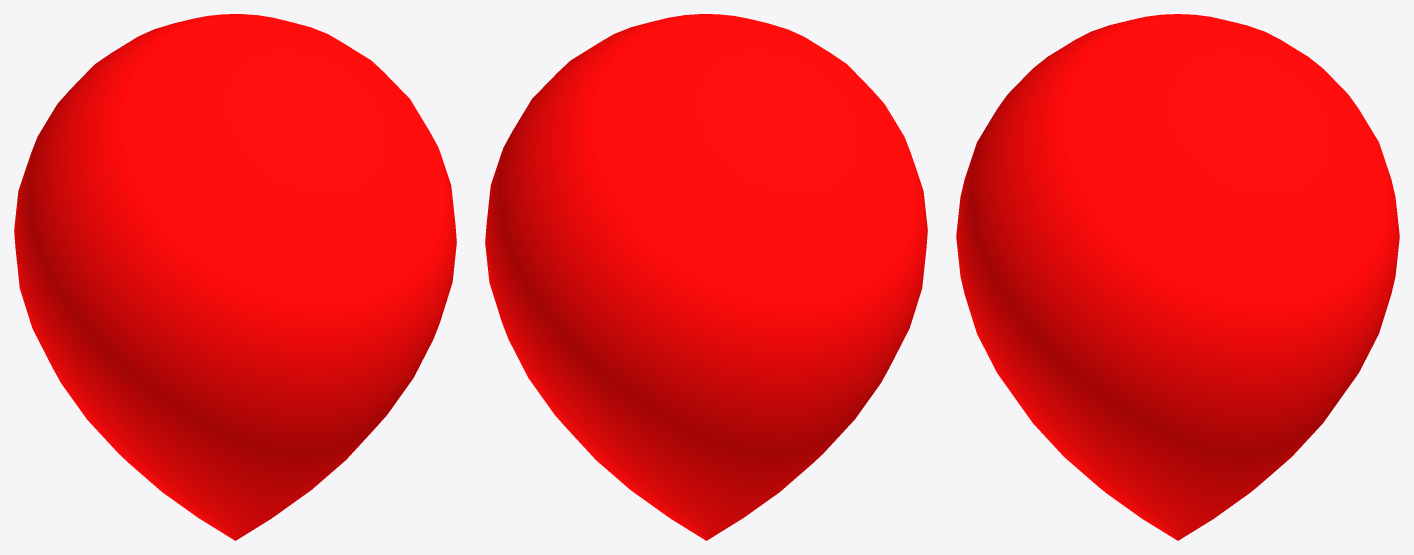
File: balloon.fbx
The picture shows the model from 3 angles, left to right: view 1: azimuth 30°, elevation 25°; view 2: azimuth 150°, elevation 25°; view 3: azimuth 270°, elevation 25°; orthographic projection.
Parts seen in each view (by area): view 1: Sphere; view 2: Sphere; view 3: Sphere.
Part boxes in pixels (x1,y1,x2,y2): Sphere: (14,14,456,540); Sphere: (485,14,927,540); Sphere: (956,14,1399,540).
Size of the model in its own units: 198 by 249 by 198.
